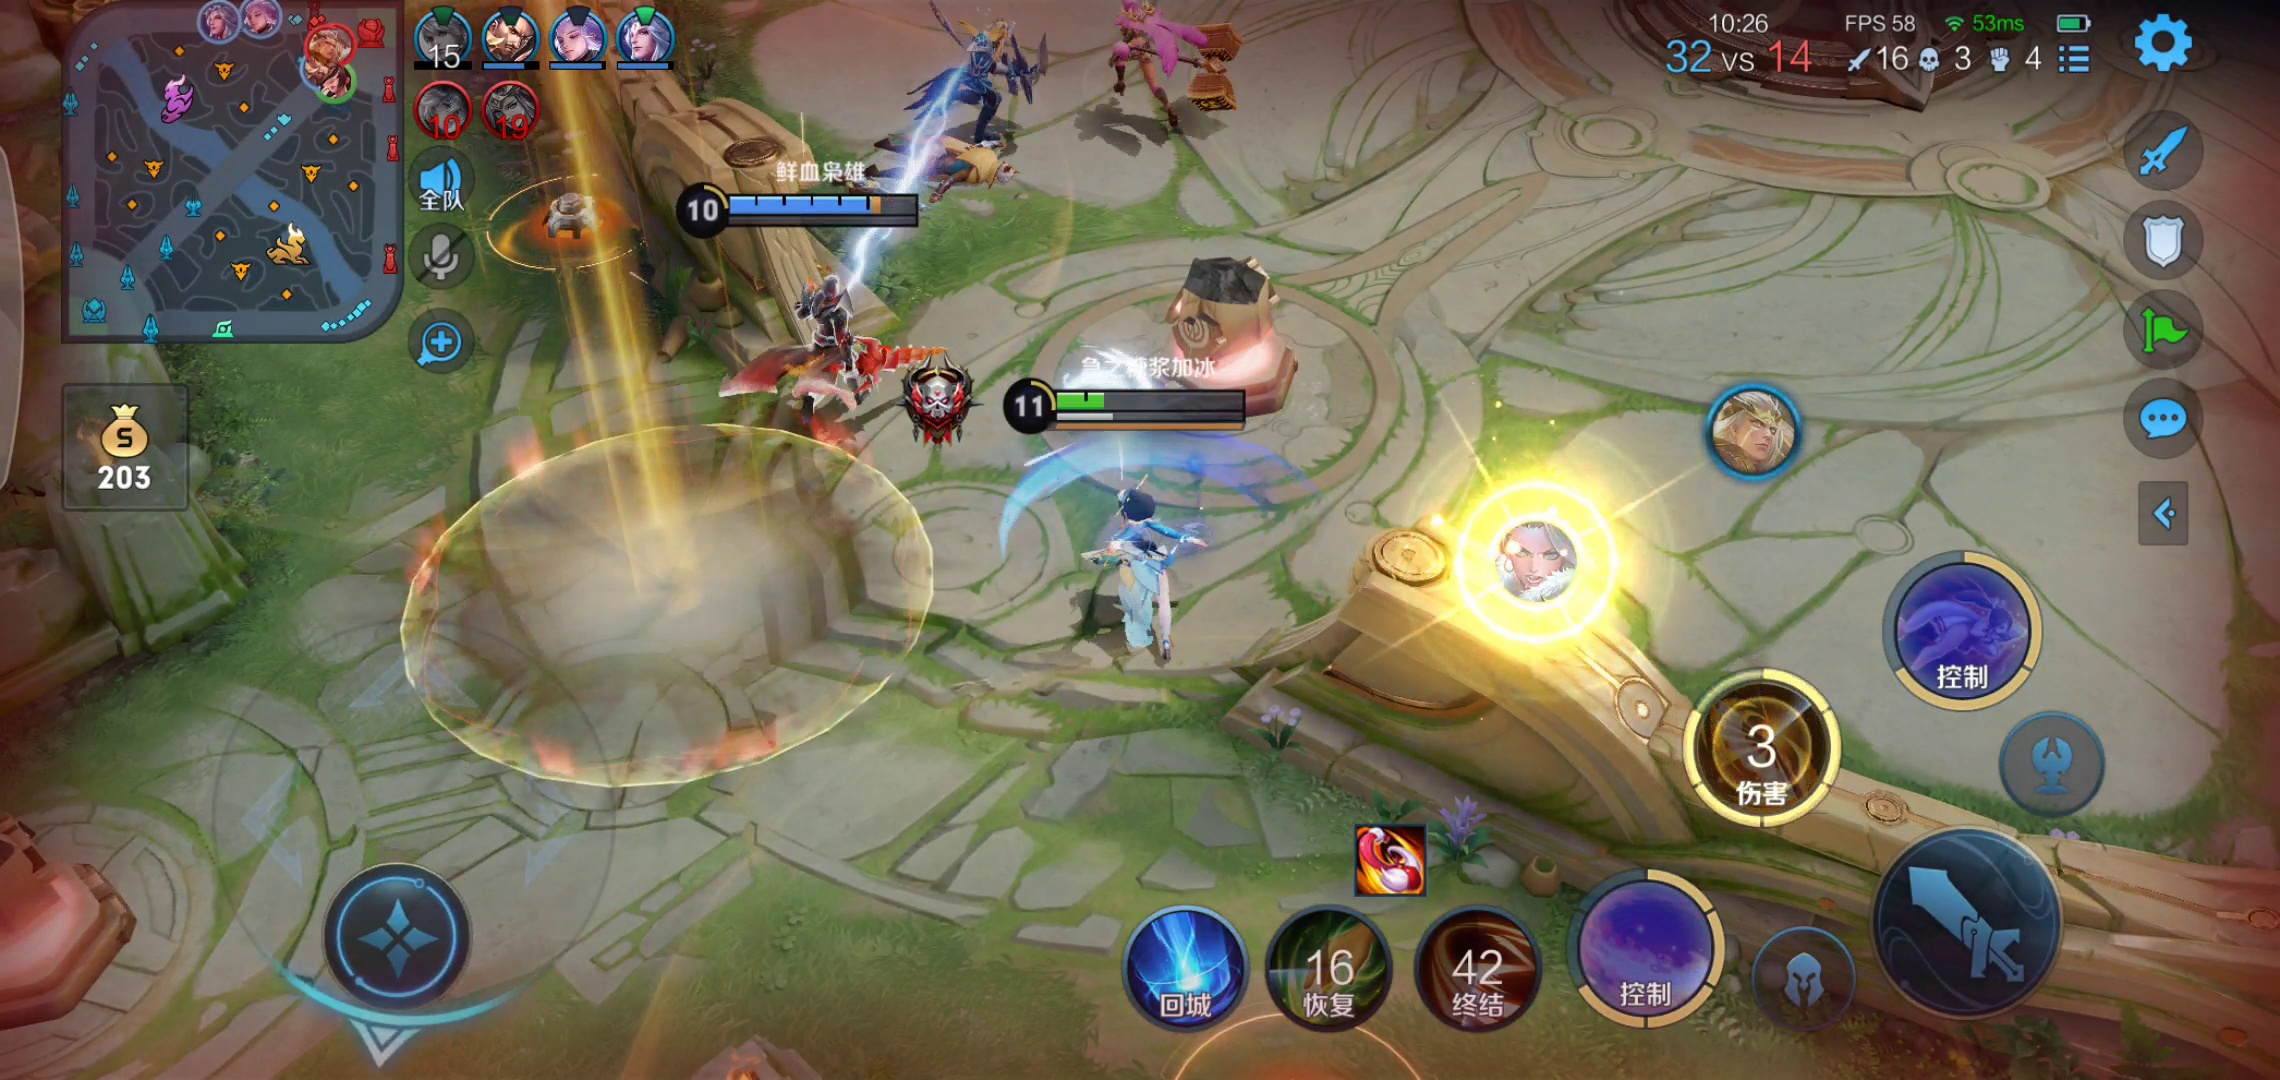crystal: (1607, 1, 2036, 115)
hero: (1038, 470, 1221, 670), (744, 279, 907, 448), (1093, 1, 1267, 140), (904, 3, 1060, 156)
tower: (1, 818, 163, 1039), (1147, 247, 1313, 427)
